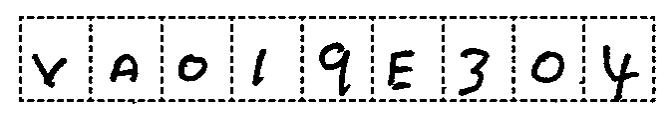0: (525, 46, 571, 86), (173, 49, 212, 85)
1: (246, 43, 275, 89)
3: (450, 43, 494, 96)
4: (594, 42, 644, 98)
9: (313, 39, 357, 97)
A: (105, 48, 149, 90)
E: (384, 47, 419, 94)
V: (28, 50, 73, 92)
